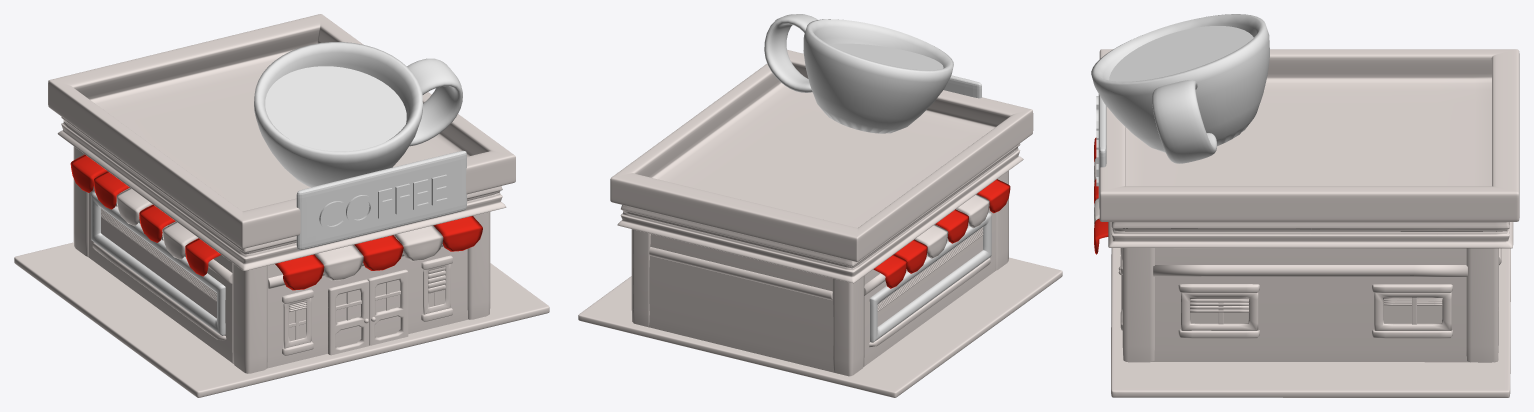
Rendered from cafe.fbx.
3 renders of one model, left to right at view 1: azimuth 30°, elevation 25°; view 2: azimuth 150°, elevation 25°; view 3: azimuth 270°, elevation 25°, orthographic. The views are drawn at different scales.
Parts seen in each view (by area): view 1: Cube.166, Cube.143, Cube.194, Circle.001, Circle, Cube.034, Cube.142, Cube.224, Cube.131, Cube.130, Cube.017, Text (+8 smaller); view 2: Cube.166, Cube.194, Cube.143, Circle.001, Cube.224, Cube.142, Cube.130, Cube.017, Cube.225, Cylinder.016, Circle, Cube.140 (+2 smaller); view 3: Cube.166, Cube.194, Cube.143, Circle.001, Cube.142, Cube.224, Circle, Cube.225, Cylinder.016, Torus.009, Torus.008, Cube.128 (+7 smaller).
Boxes of the visible parts, bbox=[...] form: Cube.166: bbox=[48, 14, 515, 248]; Cube.143: bbox=[14, 242, 549, 397]; Cube.194: bbox=[88, 186, 468, 368]; Circle.001: bbox=[254, 42, 462, 187]; Circle: bbox=[265, 66, 406, 151]; Cube.034: bbox=[296, 150, 466, 249]; Cube.142: bbox=[73, 146, 490, 373]; Cube.224: bbox=[57, 121, 506, 270]; Cube.131: bbox=[275, 216, 482, 290]; Cube.130: bbox=[70, 154, 221, 276]; Cube.017: bbox=[91, 191, 225, 335]; Text: bbox=[319, 174, 447, 230]; Cube.166: bbox=[610, 49, 1033, 261]; Cube.194: bbox=[633, 208, 995, 376]; Cube.143: bbox=[578, 257, 1062, 397]; Circle.001: bbox=[764, 14, 953, 133]; Cube.224: bbox=[617, 148, 1023, 283]; Cube.142: bbox=[631, 171, 1008, 375]; Cube.130: bbox=[873, 179, 1010, 288]; Cube.017: bbox=[869, 212, 991, 342]; Cube.225: bbox=[620, 143, 1020, 268]; Cylinder.016: bbox=[649, 247, 885, 300]; Circle: bbox=[829, 43, 943, 70]; Cube.140: bbox=[877, 227, 983, 311]; Cube.166: bbox=[1099, 49, 1519, 221]; Cube.194: bbox=[1152, 248, 1497, 362]; Cube.143: bbox=[1111, 248, 1510, 397]; Circle.001: bbox=[1091, 14, 1269, 163]; Cube.142: bbox=[1122, 248, 1498, 362]; Cube.224: bbox=[1108, 222, 1513, 248]; Circle: bbox=[1109, 26, 1253, 81]; Cube.225: bbox=[1111, 222, 1509, 231]; Cylinder.016: bbox=[1122, 248, 1501, 276]; Torus.009: bbox=[1181, 292, 1258, 330]; Torus.008: bbox=[1374, 292, 1451, 330]; Cube.128: bbox=[1190, 297, 1248, 312].
Bounding box in the file's own units: 943 × 660 × 918.
